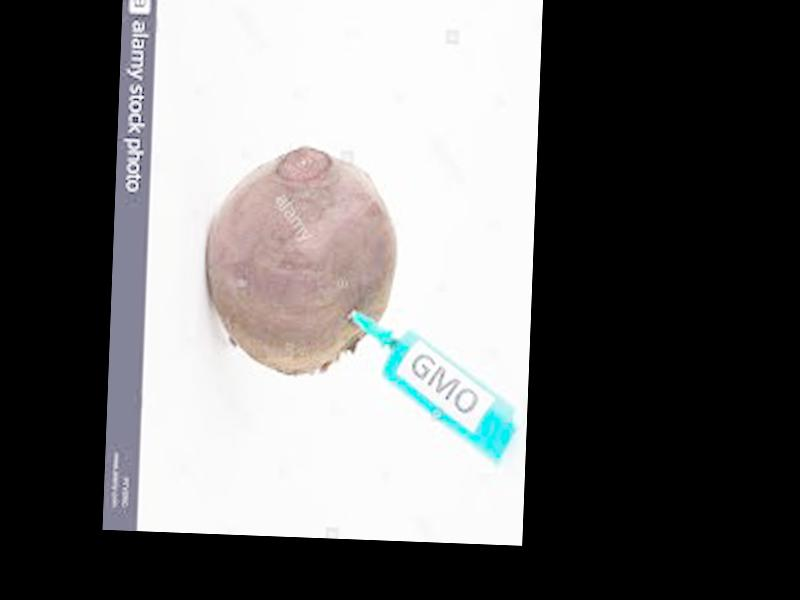Beet: (200, 144, 401, 374)
